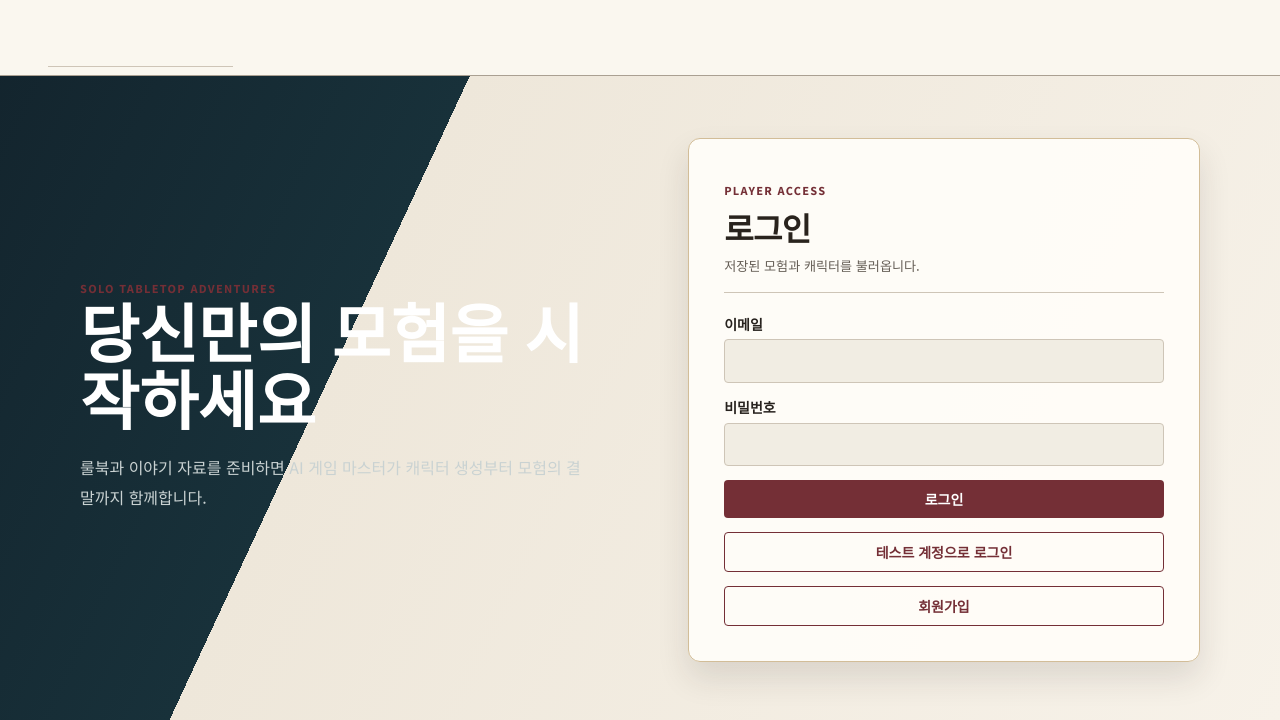
Test: authentication flow › provides an accessible login and authenticated navigation
(page scrolled)
Expected: the heading "로그인" is shown, [724,212,811,248]
Type "hero@example.com" into the field labelled "이메일". click: (944, 361)
box: [724,339,1164,383]
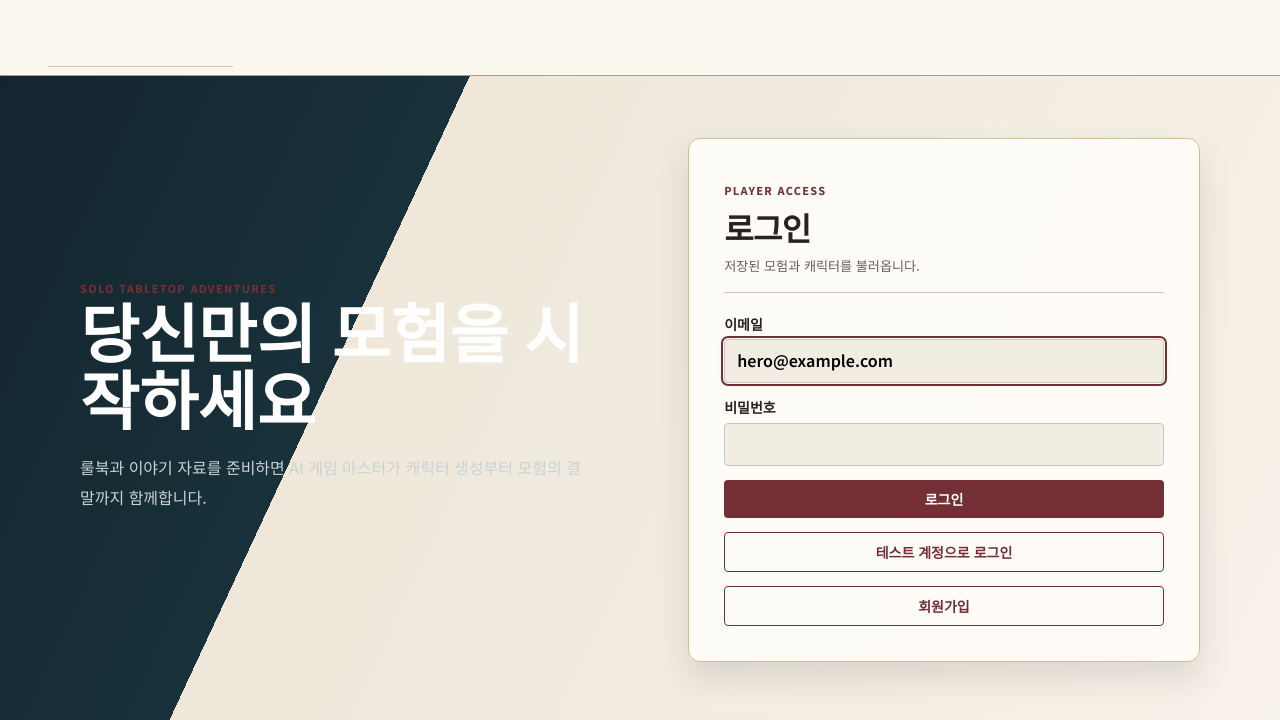
Type "swordfish" into the password field labelled "비밀번호". click: (944, 444)
box: [724,422,1164,466]
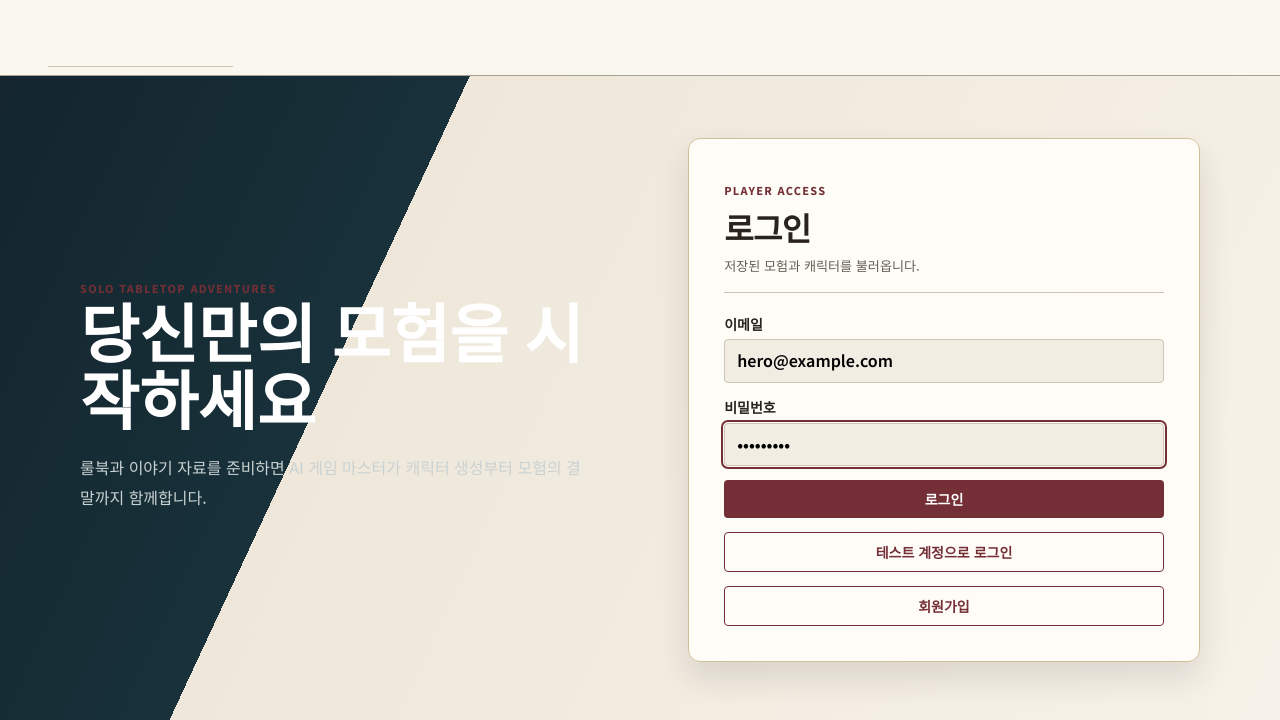
Click the button "로그인". click: (944, 499)
box: [724,480,1164,518]
(page scrolled)
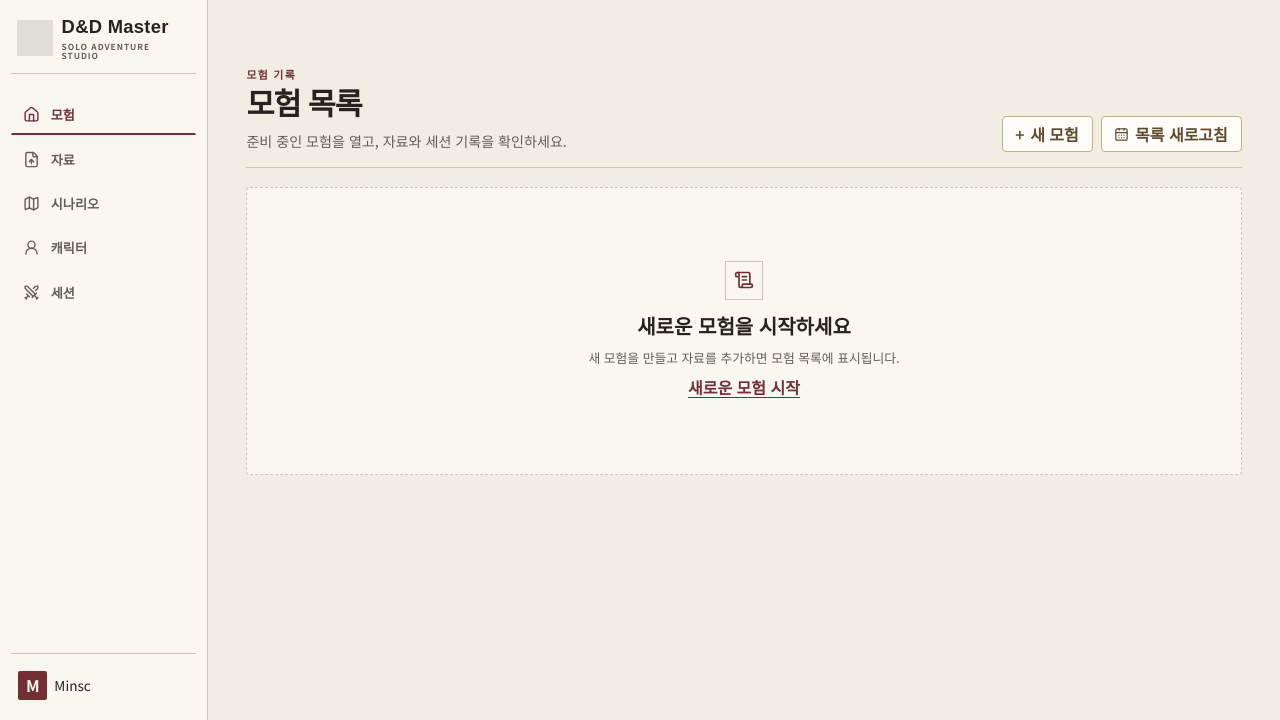
Expected: the navigation bar named "주요 메뉴" is shown, [11,94,196,706]
